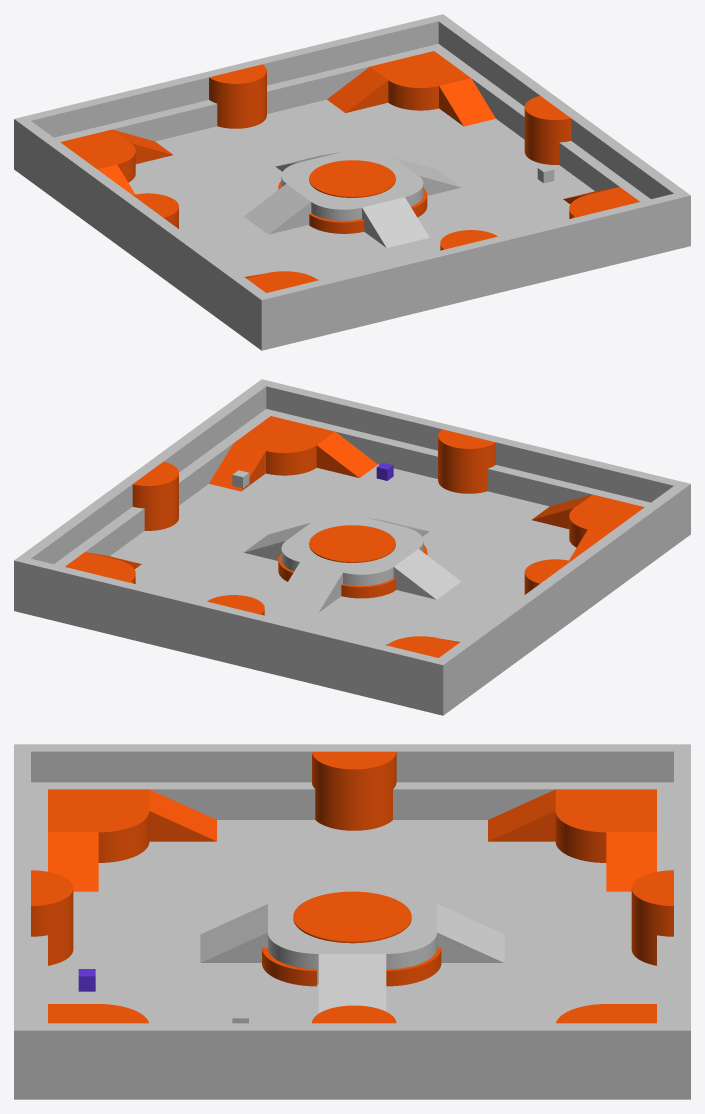
Rendered from Lvl_FirstPerson.fbx.
The picture shows the model from 3 angles, top to bottom: view 1: azimuth 30°, elevation 25°; view 2: azimuth 150°, elevation 25°; view 3: azimuth 270°, elevation 25°; orthographic projection. The views are drawn at different scales.
Visible parts, largest first — view 1: Floor, SM_Cube19, SM_Cube18, SM_Cube5, SM_Cube20, SM_Cube17, SM_Cube3, SM_Cube4, SM_Cube2, SM_Cylinder, SM_Ramp12, SM_Ramp9 (+17 smaller); view 2: Floor, SM_Cube18, SM_Cube19, SM_Cube4, SM_Cube20, SM_Cube17, SM_Cube3, SM_Cube5, SM_Cube2, SM_Cylinder, SM_Ramp10, SM_Ramp9 (+18 smaller); view 3: Floor, SM_Cube17, SM_Cube20, SM_Cube2, SM_Cube3, SM_Cylinder, SM_Cube18, SM_Cube19, SM_Ramp11, SM_Cylinder6, SM_Cylinder7, SM_Ramp10 (+33 smaller).
Part boxes in pixels (left/top/right/bottom): Floor: left=14, top=99, right=690, bottom=350; SM_Cube19: left=266, top=193, right=680, bottom=319; SM_Cube18: left=25, top=17, right=438, bottom=137; SM_Cube5: left=283, top=223, right=669, bottom=339; SM_Cube20: left=14, top=116, right=272, bottom=322; SM_Cube17: left=433, top=14, right=690, bottom=220; SM_Cube3: left=14, top=141, right=283, bottom=344; SM_Cube4: left=54, top=46, right=433, bottom=141; SM_Cube2: left=428, top=44, right=690, bottom=245; SM_Cylinder: left=309, top=160, right=395, bottom=197; SM_Ramp12: left=362, top=197, right=429, bottom=247; SM_Ramp9: left=243, top=184, right=311, bottom=234; Floor: left=14, top=464, right=690, bottom=715; SM_Cube18: left=24, top=558, right=438, bottom=684; SM_Cube19: left=266, top=382, right=679, bottom=502; SM_Cube4: left=35, top=588, right=421, bottom=704; SM_Cube20: left=432, top=481, right=690, bottom=687; SM_Cube17: left=14, top=379, right=271, bottom=585; SM_Cube3: left=421, top=506, right=690, bottom=709; SM_Cube5: left=271, top=411, right=650, bottom=506; SM_Cube2: left=14, top=409, right=276, bottom=610; SM_Cylinder: left=309, top=525, right=395, bottom=562; SM_Ramp10: left=275, top=562, right=342, bottom=612; SM_Ramp9: left=393, top=549, right=461, bottom=599; Floor: left=14, top=820, right=690, bottom=1099; SM_Cube17: left=14, top=1023, right=690, bottom=1061; SM_Cube20: left=14, top=744, right=690, bottom=782; SM_Cube2: left=14, top=1061, right=690, bottom=1091; SM_Cube3: left=31, top=782, right=673, bottom=819; SM_Cylinder: left=293, top=891, right=411, bottom=943; SM_Cube18: left=674, top=751, right=690, bottom=1023; SM_Cube19: left=14, top=751, right=30, bottom=1023; SM_Ramp11: left=318, top=954, right=386, bottom=1012; SM_Cylinder6: left=312, top=751, right=354, bottom=830; SM_Cylinder7: left=354, top=751, right=396, bottom=830; SM_Ramp10: left=437, top=904, right=504, bottom=962.
Size of what is drawn, in the model's own units: 4000 by 4000 by 500.
